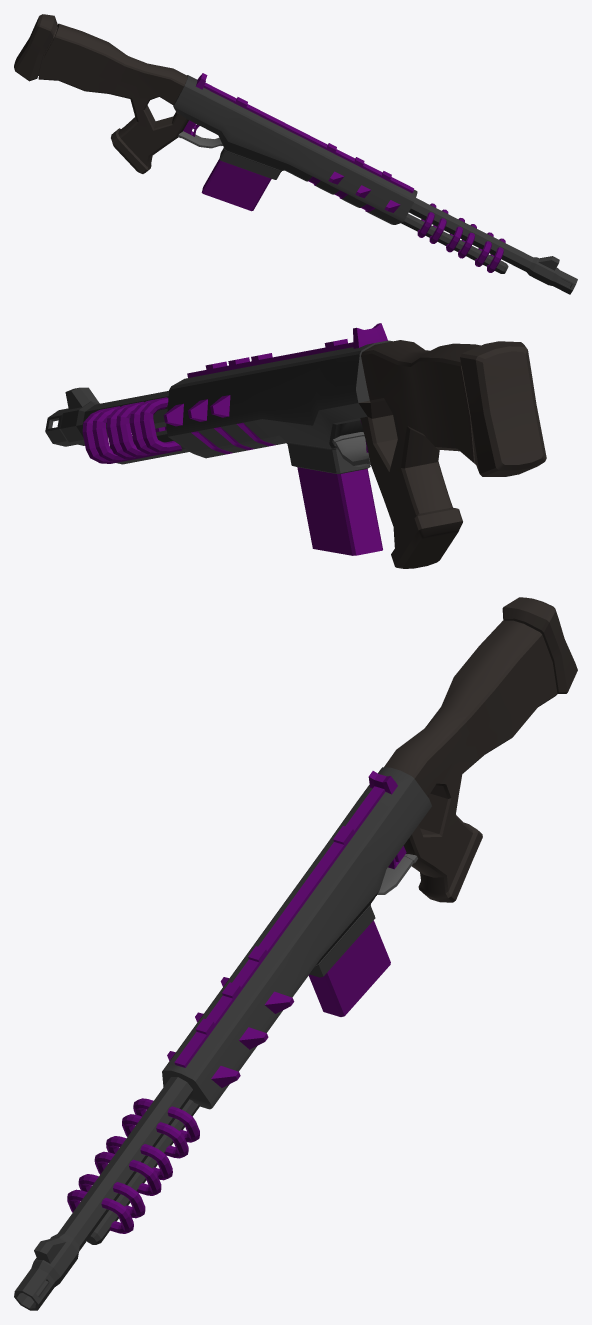
The model's file is ranged-gun-single-mat.fbx.
3 views of the same model, one above another, from view 1: azimuth 30°, elevation 25°; view 2: azimuth 150°, elevation 25°; view 3: azimuth 270°, elevation 25° (orthographic). The views are drawn at different scales.
Visible parts, largest first — view 1: Enemy_Rifle1_Rifle_Body1; view 2: Enemy_Rifle1_Rifle_Body1; view 3: Enemy_Rifle1_Rifle_Body1.
Part boxes in pixels (<box>): Enemy_Rifle1_Rifle_Body1: <box>14,14,577,294</box>; Enemy_Rifle1_Rifle_Body1: <box>45,323,546,568</box>; Enemy_Rifle1_Rifle_Body1: <box>14,597,577,1310</box>.
Bounding box in the file's own units: 3.33 × 1.99 × 2.46.
